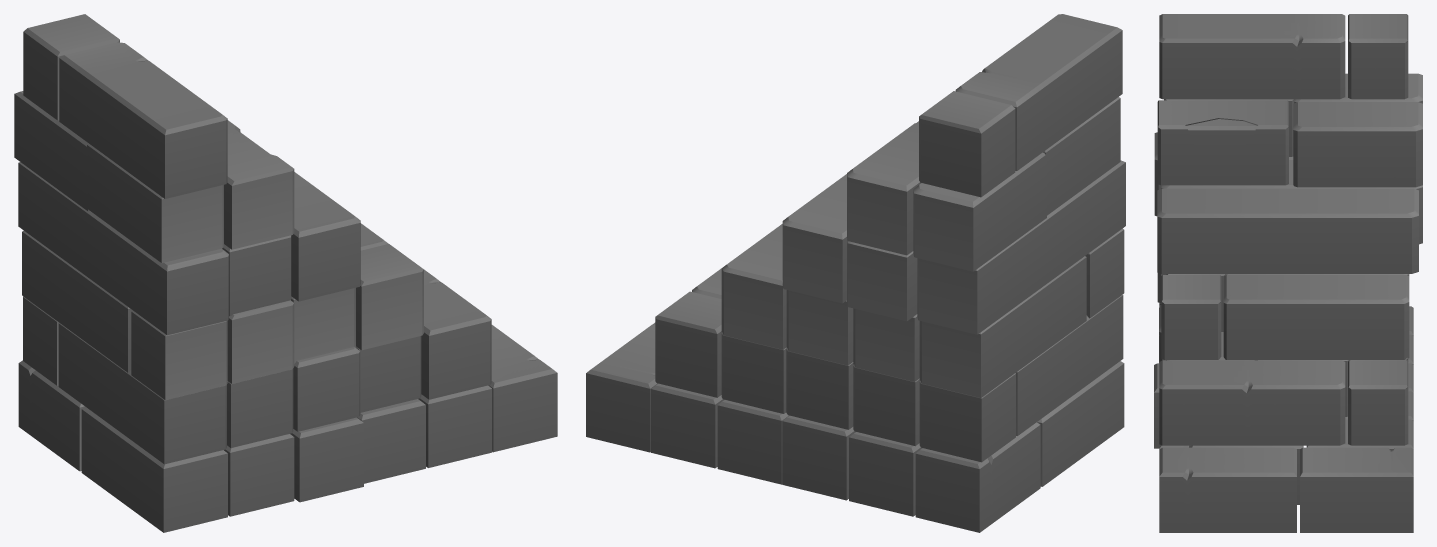
Rendered from Stairs.fbx.
3 renders of one model, left to right at view 1: azimuth 30°, elevation 25°; view 2: azimuth 150°, elevation 25°; view 3: azimuth 270°, elevation 25°, orthographic. The views are drawn at different scales.
Visible parts, largest first — view 1: pCube68; view 2: pCube68; view 3: pCube68.
Part boxes in pixels (left/top/right/bottom): pCube68: left=14, top=14, right=557, bottom=532; pCube68: left=586, top=14, right=1125, bottom=532; pCube68: left=1154, top=14, right=1422, bottom=532.
Size of the model in its own units: 6.14 by 5.96 by 4.13.
